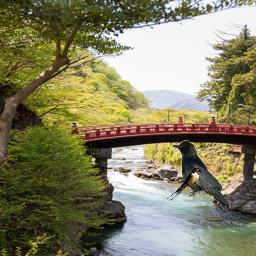Crow: (171, 140, 231, 214)
Swallow: (167, 167, 199, 201)
